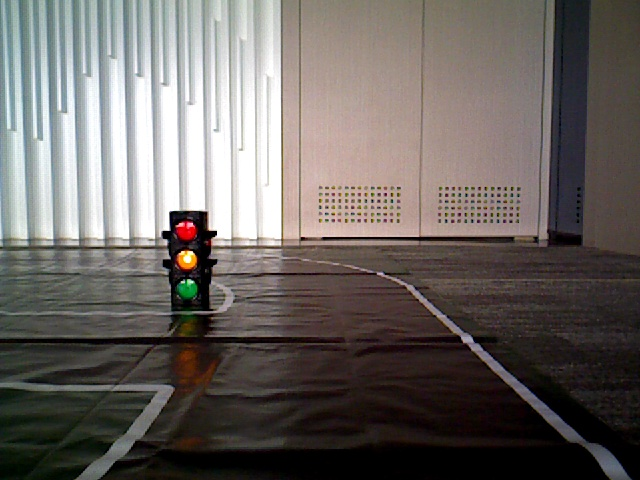yellow: (171, 213, 206, 303)
